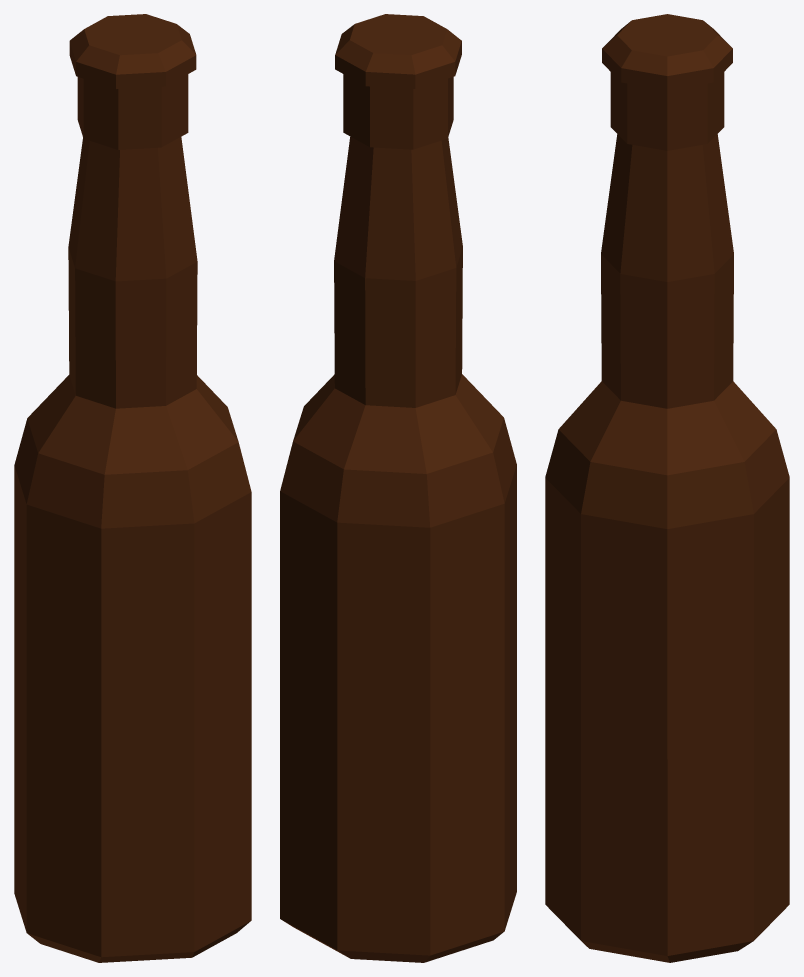
The model's file is piwo.fbx.
3 views of the same model, side by side, from view 1: azimuth 30°, elevation 25°; view 2: azimuth 150°, elevation 25°; view 3: azimuth 270°, elevation 25° (orthographic).
Visible parts, largest first — view 1: Piwo; view 2: Piwo; view 3: Piwo.
Part boxes in pixels (box(x1,y1,x2,y2)): Piwo: box(14, 14, 251, 962); Piwo: box(280, 14, 516, 962); Piwo: box(545, 14, 789, 962).
Size of the model in its own units: 19.58 by 77.88 by 19.58.
